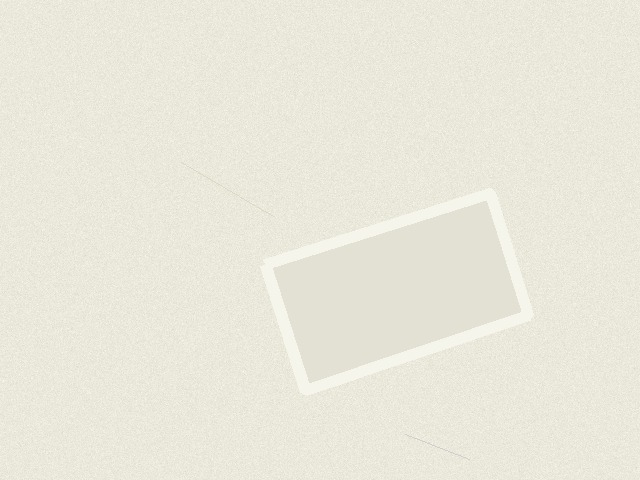parking_area: (265, 193, 528, 390)
